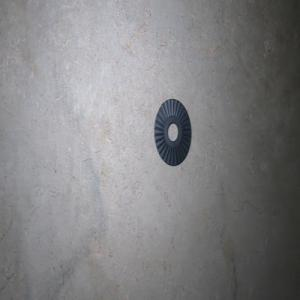Washer: (154, 98, 191, 166)
